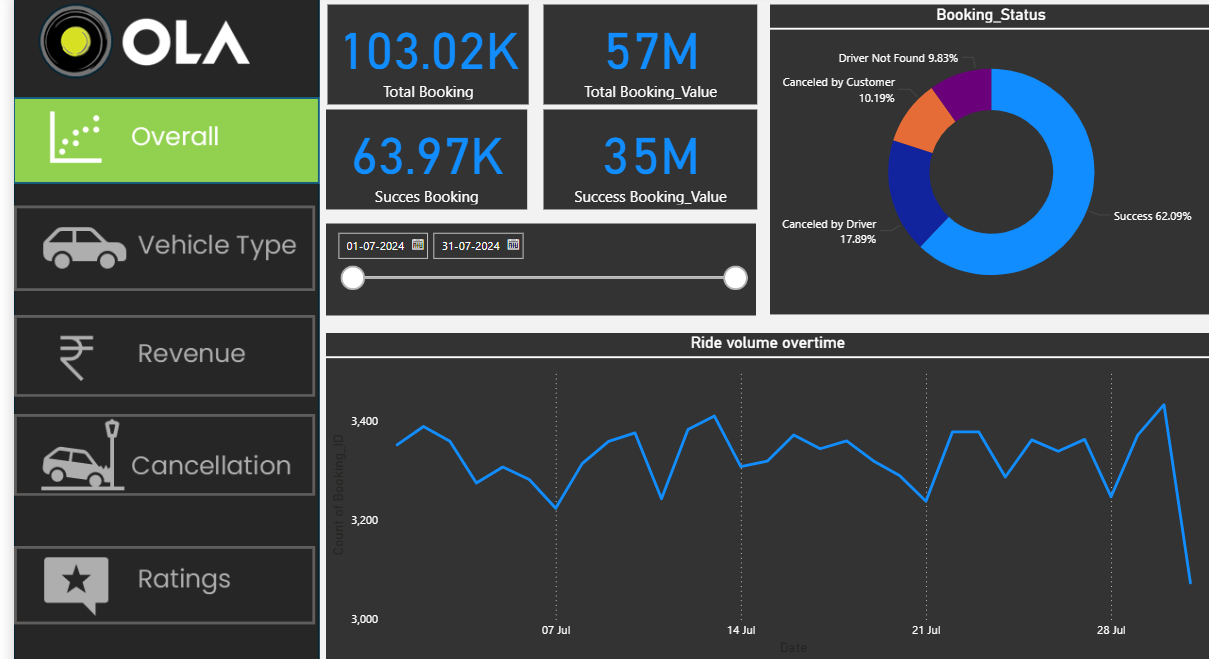

This screenshot's page, from the dashboard's own definition file:
{"tool":"powerbi","page":{"name":"Overall","canvas":[1280,720],"ordinal":0},"visuals":[{"type":"actionButton","box":[0,340.2,319.4,86.9],"z":0},{"type":"actionButton","box":[0,224.9,319.4,90.7],"z":1000},{"type":"actionButton","box":[0,446,319.4,86.9],"z":2000},{"type":"actionButton","box":[0,585.8,319.4,83.2],"z":3000},{"type":"lineChart","title":"Ride volume overtime","fields":{"Category":["Bookings-100000-Rows.Date"],"Y":["CountNonNull(Bookings-100000-Rows.Booking_ID)"]},"box":[330.7,359.1,937.3,345.8],"z":4000},{"type":"donutChart","title":"Booking_Status","fields":{"Category":["Bookings-100000-Rows.Booking_Status"],"Y":["CountNonNull(Bookings-100000-Rows.Booking_ID)"]},"box":[801.3,11.3,468.7,328.8],"z":5000},{"type":"card","title":"SuccessBooking","fields":{"Values":["CountNonNull(Bookings-100000-Rows.Booking_ID)"]},"box":[330.7,122.8,213.5,105.8],"z":6000},{"type":"card","title":"SuccessBooking","fields":{"Values":["CountNonNull(Bookings-100000-Rows.Booking_ID)"]},"box":[332.6,11.3,213.5,105.8],"z":7000},{"type":"slicer","fields":{"Values":["Bookings-100000-Rows.Date"]},"box":[330.7,243.8,455.4,96.4],"z":8000},{"type":"card","title":"SuccessBooking","fields":{"Values":["Sum(Bookings-100000-Rows.Booking_Value)"]},"box":[561.3,11.3,226.8,105.8],"z":9000},{"type":"card","title":"SuccessBooking","fields":{"Values":["Sum(Bookings-100000-Rows.Booking_Value)"]},"box":[561.3,122.8,226.8,105.8],"z":10000}]}

Visuals, with their boxes on the page's 1280x720 design canvas (x1, y1, x2, y2). These are canvas units, not pixel positions in the 1209x659 screenshot, which may show the page scaled, cropped or inside an application window:
actionButton: region(0, 340, 319, 427)
actionButton: region(0, 225, 319, 316)
actionButton: region(0, 446, 319, 533)
actionButton: region(0, 586, 319, 669)
"Ride volume overtime" lineChart: region(331, 359, 1268, 705)
"Booking_Status" donutChart: region(801, 11, 1270, 340)
"SuccessBooking" card: region(331, 123, 544, 229)
"SuccessBooking" card: region(333, 11, 546, 117)
slicer - Bookings-100000-Rows.Date: region(331, 244, 786, 340)
"SuccessBooking" card: region(561, 11, 788, 117)
"SuccessBooking" card: region(561, 123, 788, 229)
